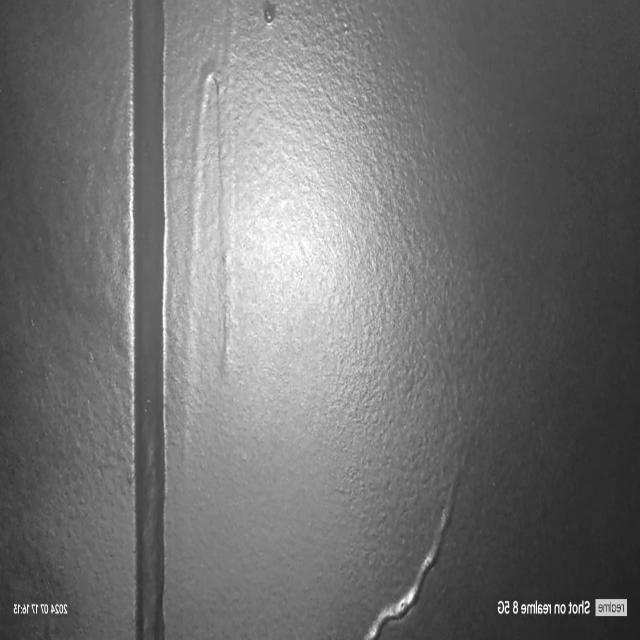paint drips: (169, 0, 291, 465), (349, 396, 478, 640)
